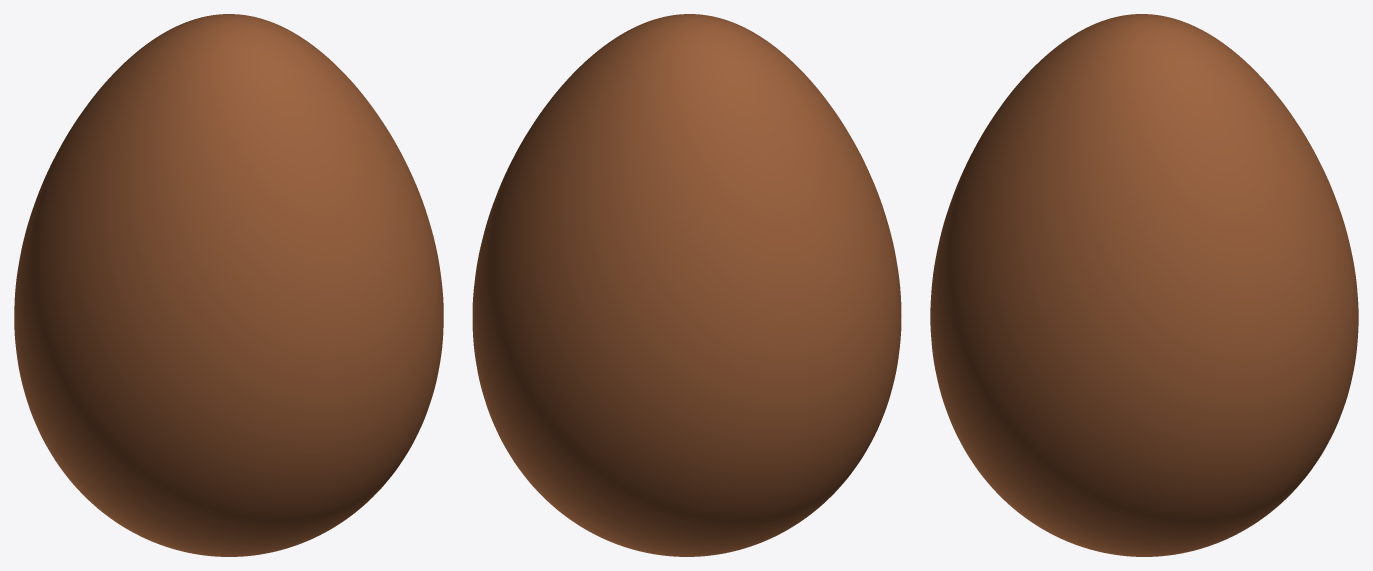
The model's file is egg.glb.
3 renders of one model, left to right at view 1: azimuth 30°, elevation 25°; view 2: azimuth 150°, elevation 25°; view 3: azimuth 270°, elevation 25°, orthographic.
Parts seen in each view (by area): view 1: Sphere; view 2: Sphere; view 3: Sphere.
Part boxes in pixels (<box>): Sphere: <box>14,14,443,556</box>; Sphere: <box>472,14,901,556</box>; Sphere: <box>930,14,1358,556</box>.
Size of the model in its own units: 0.6332 by 0.8373 by 0.6326.
